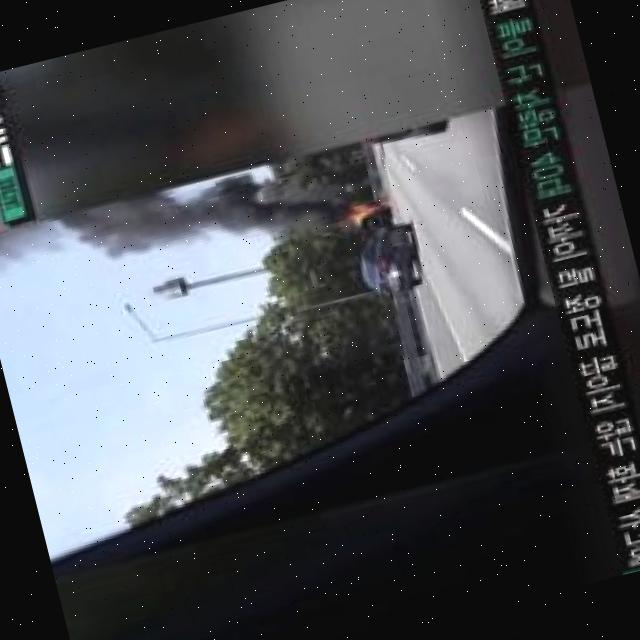fire: (344, 192, 389, 228)
